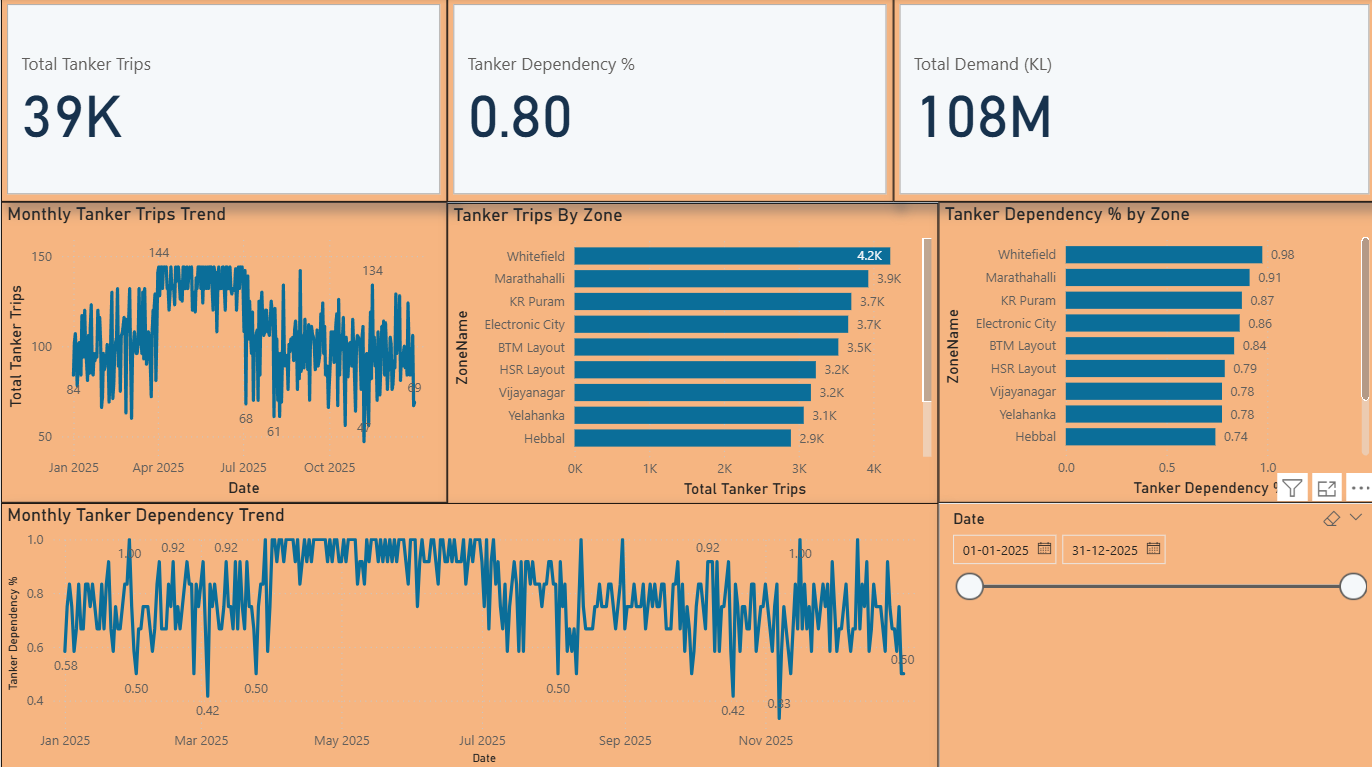

What the dashboard file says about the page in this screenshot:
{"tool":"powerbi","page":{"name":"03-Tanker Dependency","canvas":[1280,720],"ordinal":2},"visuals":[{"type":"lineChart","title":"Monthly Tanker Trips Trend","fields":{"Y":["Measures (2).Total Tanker Trips"],"Category":["DimDate.Date"]},"box":[0,189.5,415.1,280.2],"z":0},{"type":"clusteredBarChart","title":"Tanker Trips By Zone","fields":{"Category":["DimZone.ZoneName"],"Y":["Measures (2).Total Tanker Trips"]},"box":[415.1,190.7,457,280.2],"z":1000},{"type":"clusteredBarChart","title":"Tanker Dependency % by Zone","fields":{"Category":["DimZone.ZoneName"],"Y":["Measures (2).Tanker Dependency %"]},"box":[872.1,189.5,408.1,280.2],"z":2000},{"type":"cardVisual","fields":{"Data":["Measures (2).Total Tanker Trips"]},"box":[0,0,415.1,189.5],"z":3000},{"type":"cardVisual","fields":{"Data":["Measures (2).Tanker Dependency %"]},"box":[415.1,0,415.1,189.5],"z":4000},{"type":"cardVisual","fields":{"Data":["Measures (2).Total Demand (KL)"]},"box":[830.2,0,450,189.5],"z":5000},{"type":"lineChart","title":"Monthly Tanker Dependency Trend","fields":{"Category":["DimDate.Date"],"Y":["Measures (2).Tanker Dependency %"]},"box":[0,469.8,872.1,250],"z":6000},{"type":"slicer","fields":{"Values":["DimDate.Date"]},"box":[872,470,408,250],"z":7000}]}

Visuals, with their boxes in screenshot pixels (x1, y1, x2, y2), scaled from the page's 1280x720 canvas onto the 1372x767 screenshot:
"Monthly Tanker Trips Trend" lineChart: (left=0, top=202, right=445, bottom=500)
"Tanker Trips By Zone" clusteredBarChart: (left=445, top=203, right=935, bottom=502)
"Tanker Dependency % by Zone" clusteredBarChart: (left=935, top=202, right=1371, bottom=500)
cardVisual - Measures (2).Total Tanker Trips: (left=0, top=0, right=445, bottom=202)
cardVisual - Measures (2).Tanker Dependency %: (left=445, top=0, right=890, bottom=202)
cardVisual - Measures (2).Total Demand (KL): (left=890, top=0, right=1371, bottom=202)
"Monthly Tanker Dependency Trend" lineChart: (left=0, top=500, right=935, bottom=766)
slicer - DimDate.Date: (left=935, top=501, right=1371, bottom=766)
